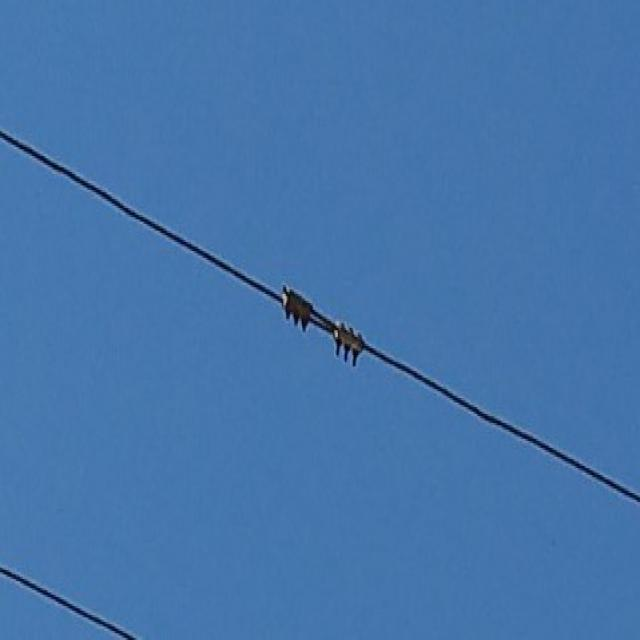wire: (0, 126, 640, 524), (0, 563, 144, 640)
